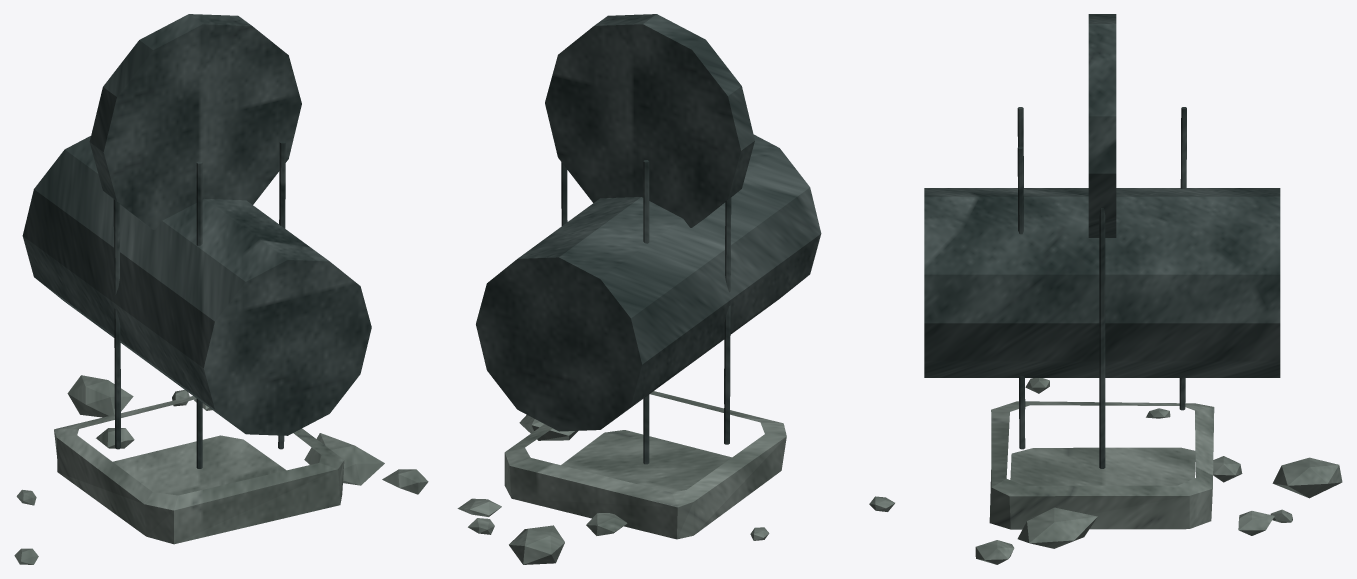
File: 0274_broken_column_24.glb
The picture shows the model from 3 angles, left to right: view 1: azimuth 30°, elevation 25°; view 2: azimuth 150°, elevation 25°; view 3: azimuth 270°, elevation 25°; orthographic projection.
Visible parts, largest first — view 1: stone_dark, stone; view 2: stone_dark, stone; view 3: stone_dark, stone.
Part boxes in pixels (bbox=[...]): stone_dark: bbox=[22, 14, 371, 468]; stone: bbox=[14, 375, 428, 564]; stone_dark: bbox=[476, 14, 821, 464]; stone: bbox=[457, 391, 894, 564]; stone_dark: bbox=[924, 14, 1280, 468]; stone: bbox=[975, 378, 1342, 564].
Bounding box in the file's own units: 2.37 × 2.77 × 2.27.
2 materials, 2 textured.
